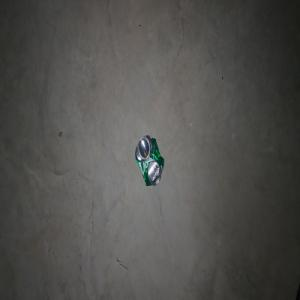SodaCan: (134, 134, 164, 186)
